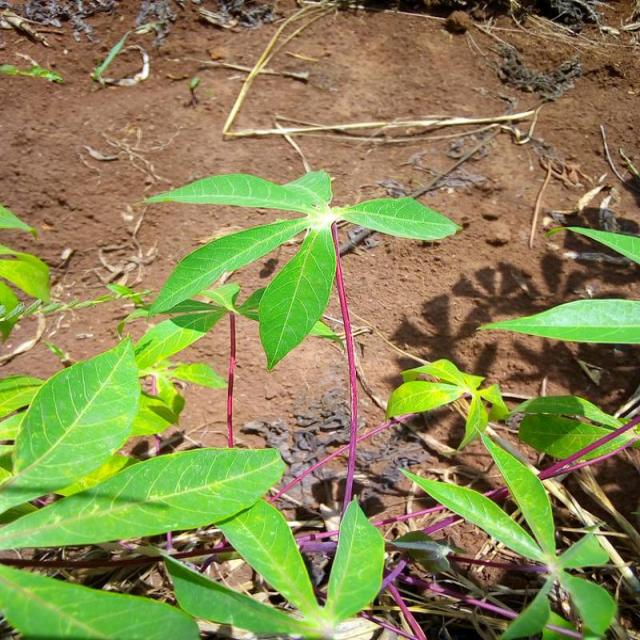cassava leaf: (136, 168, 462, 371), (0, 443, 286, 550), (0, 334, 142, 512), (0, 562, 199, 638), (256, 219, 338, 371), (139, 168, 333, 214), (324, 494, 385, 625), (474, 296, 640, 344)
